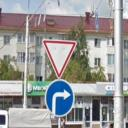preferencia: (40, 37, 78, 79)
